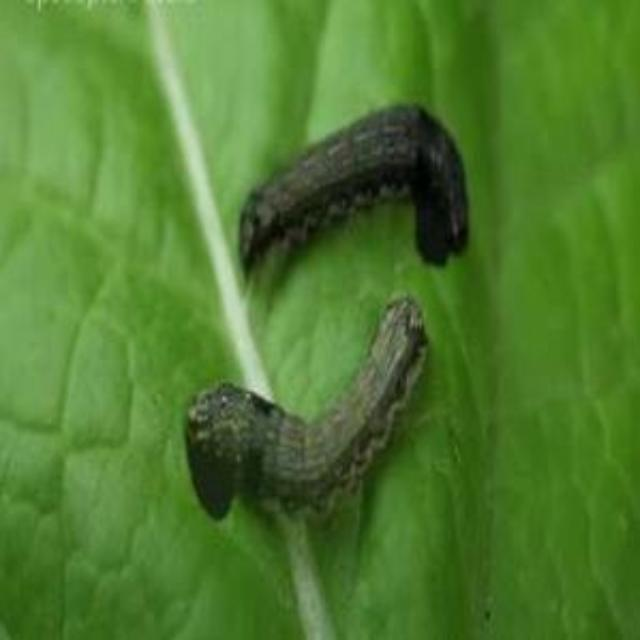Tobacco cutworm: (124, 292, 472, 536), (185, 85, 529, 282)
